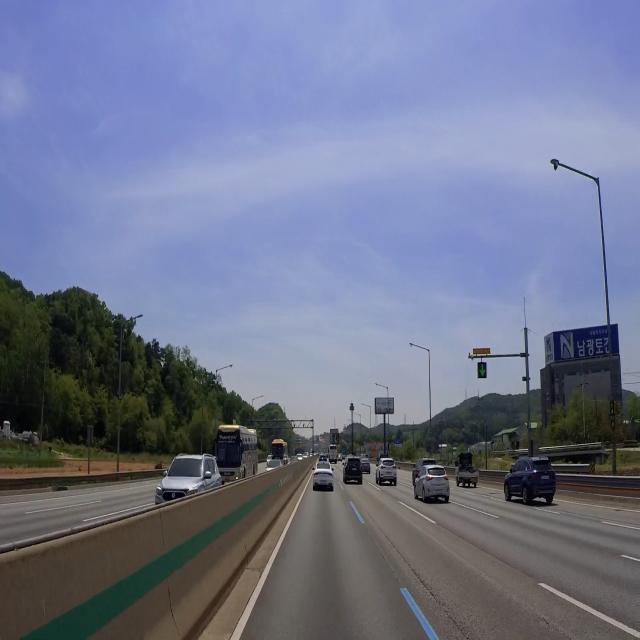car: (539, 472, 554, 485), (431, 487, 446, 499), (317, 477, 330, 488), (349, 463, 360, 476), (383, 471, 396, 482)
